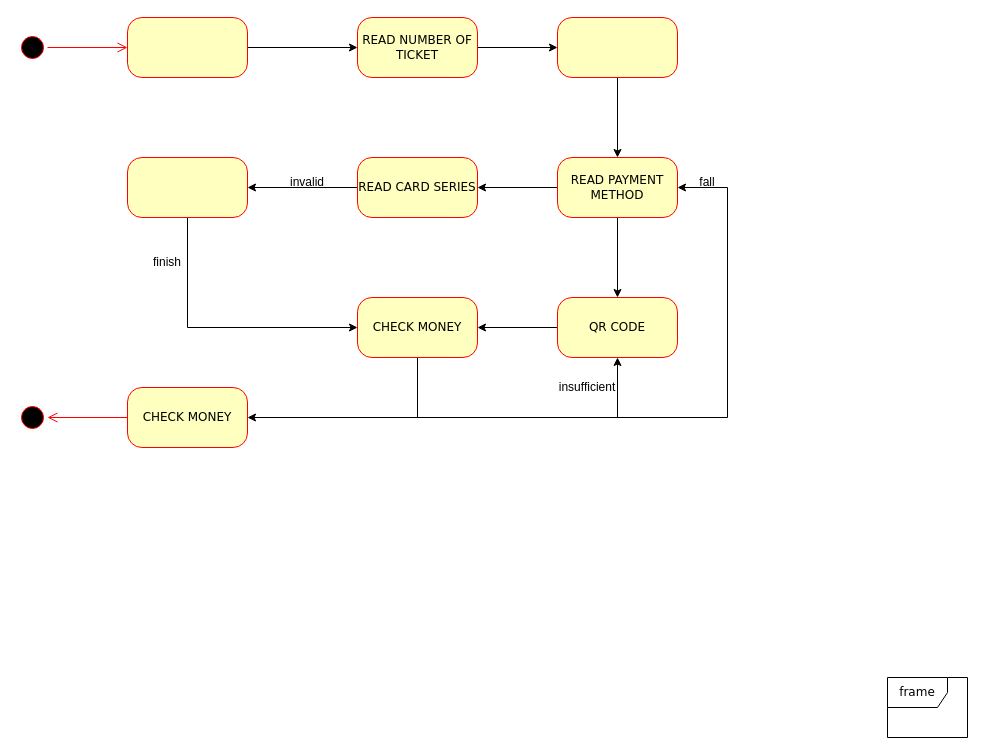
Some shapes in this 985 by 755 pixel diagram are drawn without their labels. Each missing label, with the centre of its shape:
"EJECTING CARD" goes at point (187, 187).
"READ DESTINATION" goes at point (187, 47).
"READ TICKET AMOUNT" goes at point (617, 47).
